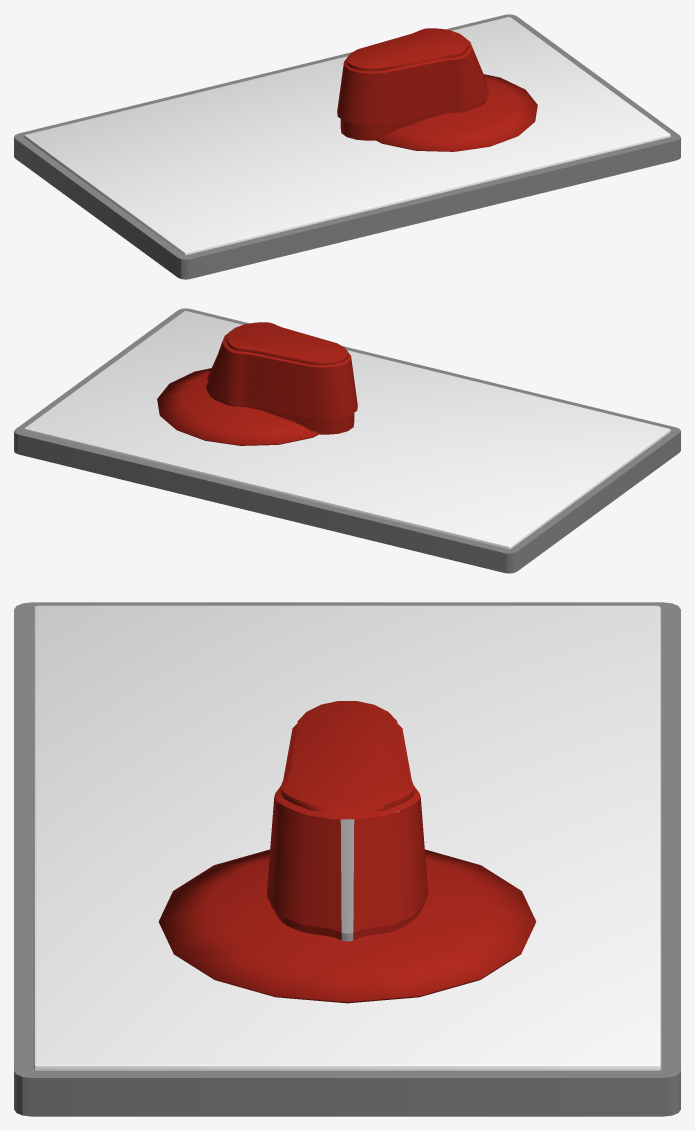
File: range_switch.glb
3 views of the same model, one above another, from view 1: azimuth 30°, elevation 25°; view 2: azimuth 150°, elevation 25°; view 3: azimuth 270°, elevation 25° (orthographic). The views are drawn at different scales.
Visible parts, largest first — view 1: Base, IRM_BASE, Upper_Switch, Handle; view 2: Base, IRM_BASE, Upper_Switch, Handle; view 3: Base, IRM_BASE, Handle, Upper_Switch, Pointer.
Boxes of the visible parts, x1,y1,x2,y2 form: Base: [24, 17, 670, 255]; IRM_BASE: [14, 14, 680, 279]; Upper_Switch: [337, 28, 488, 140]; Handle: [375, 74, 537, 151]; Base: [24, 311, 670, 548]; IRM_BASE: [14, 308, 680, 573]; Upper_Switch: [206, 322, 357, 434]; Handle: [157, 368, 319, 445]; Base: [33, 605, 661, 1070]; IRM_BASE: [14, 602, 680, 1116]; Handle: [158, 849, 536, 1003]; Upper_Switch: [266, 701, 428, 940]; Pointer: [340, 819, 354, 941].
Bounding box in the file's own units: 12.75 × 2.26 × 7.56.
